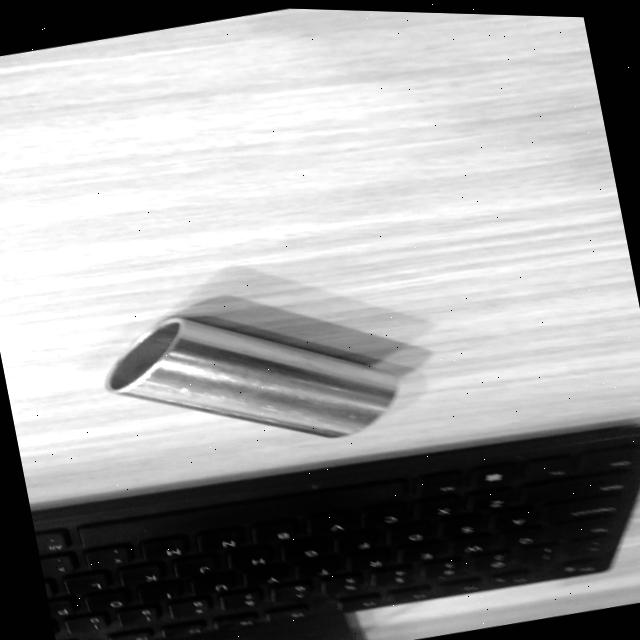Co_Lon: (106, 305, 403, 453)
